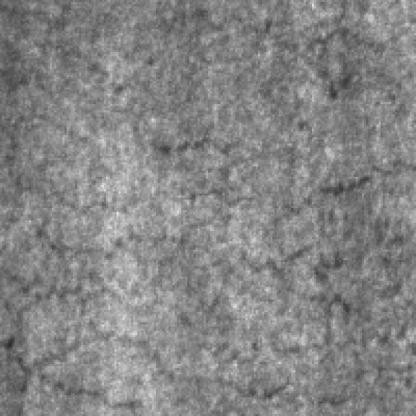crazing: (183, 139, 410, 412), (9, 108, 141, 416), (8, 324, 296, 416)
inclusion: (166, 158, 408, 229)
